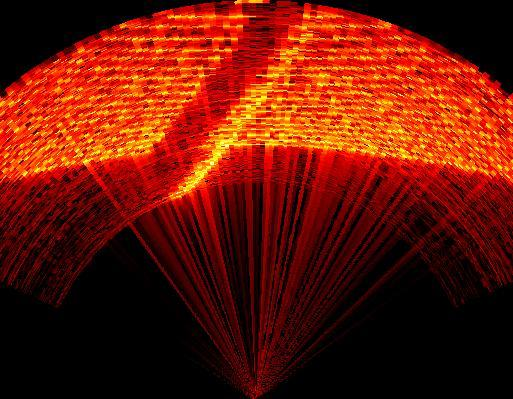pipe: (147, 2, 328, 194)
